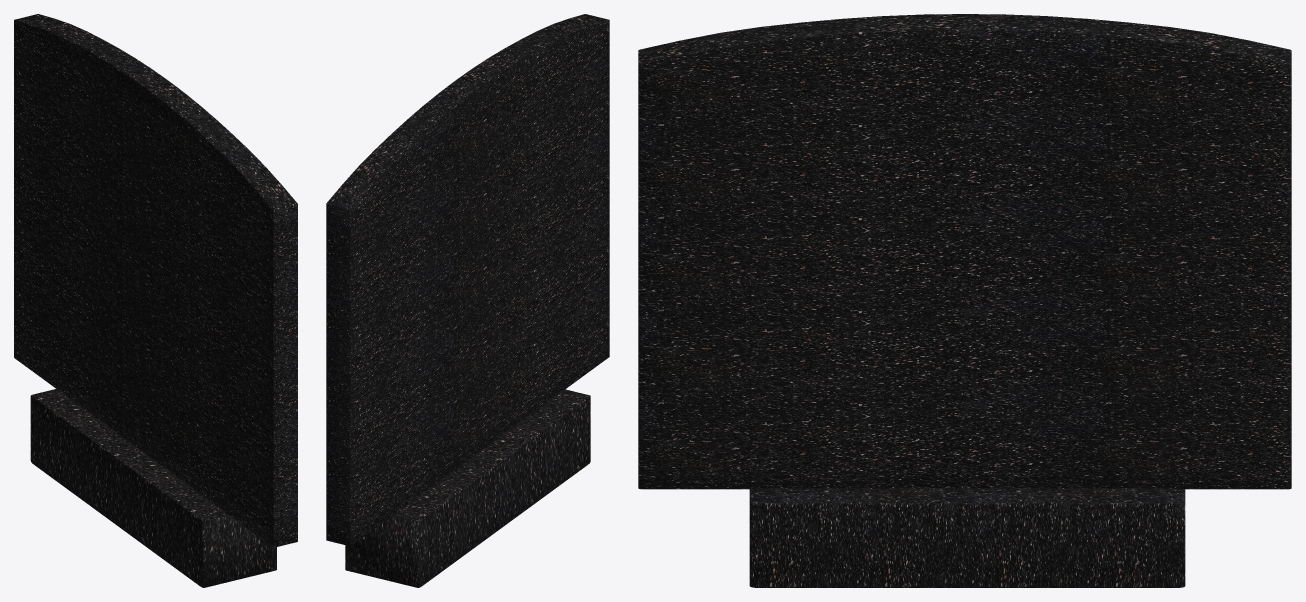
The model's file is Семейный 4[granite_2_standard] (70).glb.
3 views of the same model, side by side, from view 1: azimuth 30°, elevation 25°; view 2: azimuth 150°, elevation 25°; view 3: azimuth 270°, elevation 25° (orthographic). The views are drawn at different scales.
Visible parts, largest first — view 1: Cube.031, Куб.002; view 2: Cube.031, Куб.002; view 3: Cube.031, Куб.002.
Boxes of the visible parts, x1,y1,x2,y2 form: Cube.031: (14,14,297,547); Куб.002: (30,389,276,587); Cube.031: (326,14,609,546); Куб.002: (345,389,590,587); Cube.031: (638,14,1291,489); Куб.002: (749,488,1185,587).
Bounding box in the file's own units: 0.15 × 0.8281 × 0.9.
Materials: 2 (2 with a texture image).
